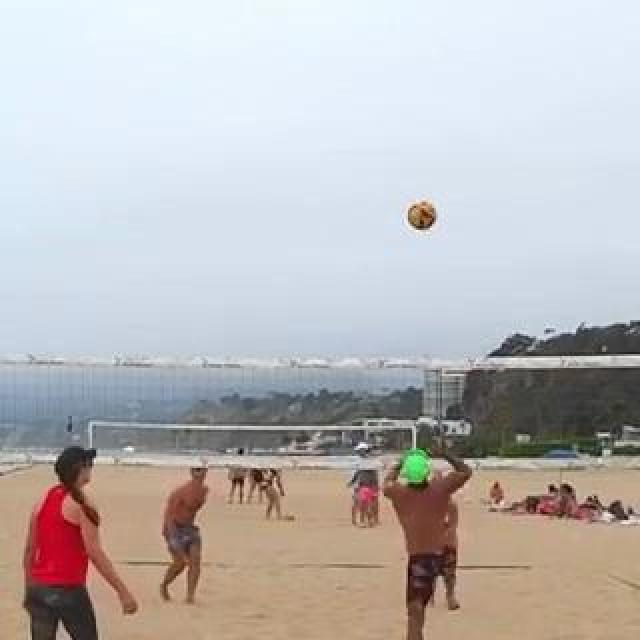volleyball: (406, 199, 438, 233)
